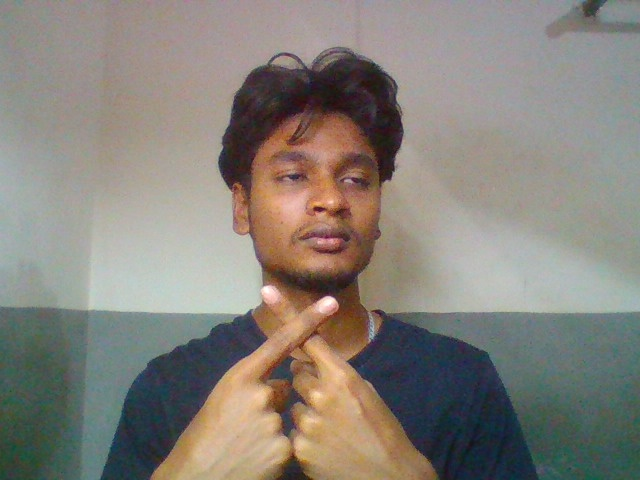X: (171, 286, 471, 480)
